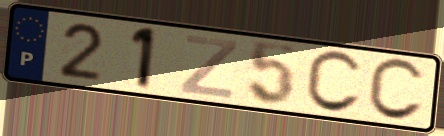1: (127, 26, 160, 93)
2: (60, 21, 107, 82)
5: (246, 41, 299, 109)
C: (364, 57, 427, 124), (302, 49, 365, 116)
Z: (178, 33, 241, 101)
